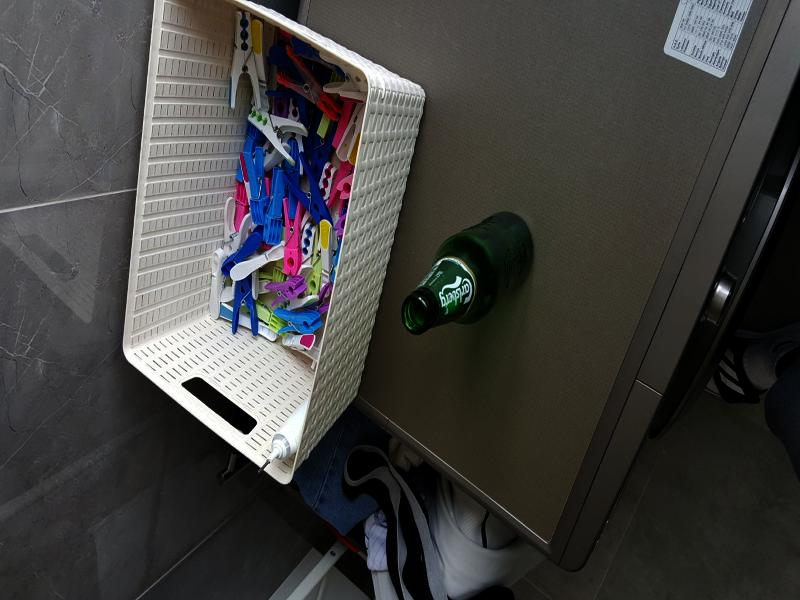Beer: (404, 214, 535, 335)
